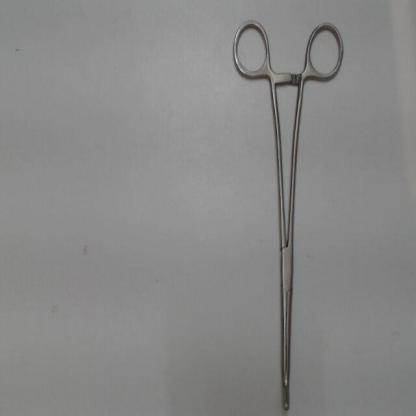Lahey Forceps: (226, 11, 348, 413)
